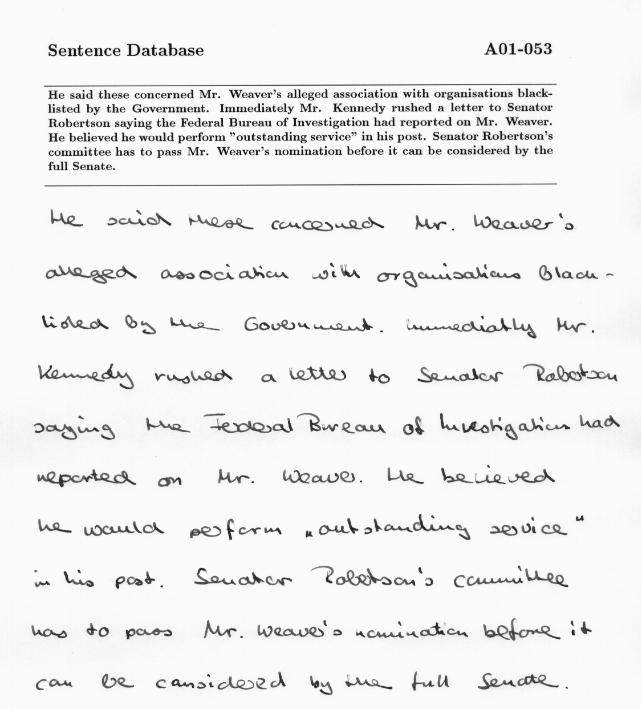text: (34, 358, 621, 393), (30, 410, 623, 444), (34, 510, 587, 545), (27, 613, 596, 645), (30, 560, 572, 593), (33, 462, 560, 493), (36, 312, 599, 341), (47, 204, 579, 234), (32, 667, 571, 696), (42, 261, 618, 287), (46, 128, 555, 145), (46, 142, 555, 159), (47, 114, 549, 131), (46, 86, 554, 102), (46, 100, 554, 116), (45, 42, 206, 59), (481, 41, 553, 59), (45, 159, 117, 173)
